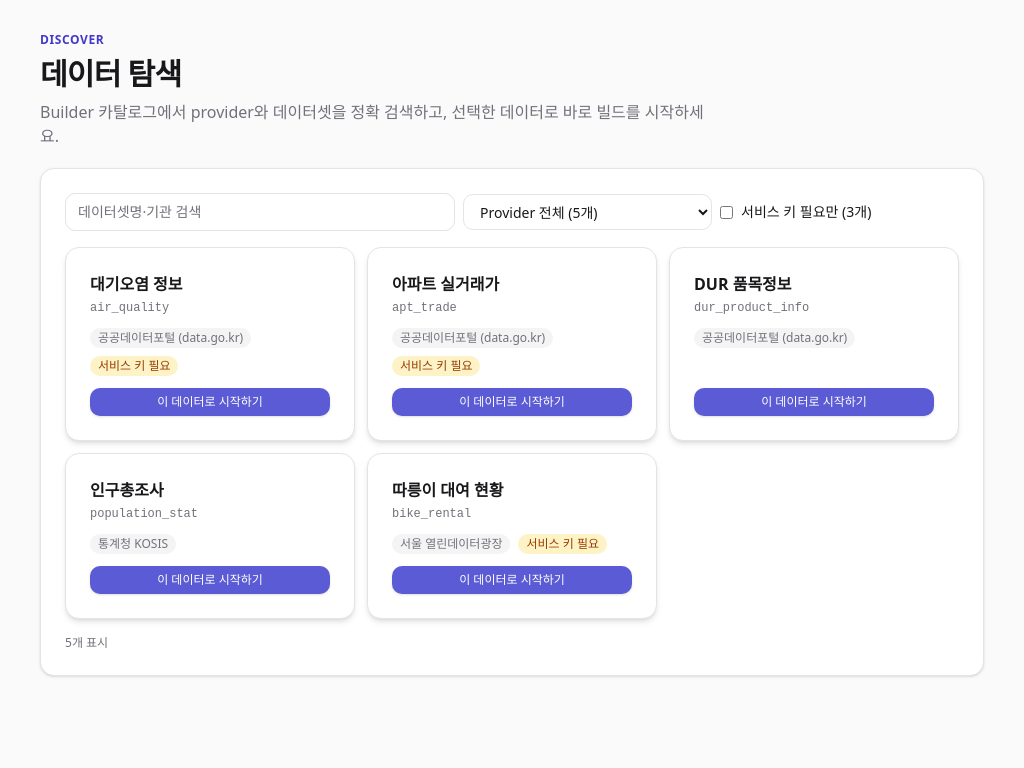
Scenario: DiscoverPage › filters to only datasets that require a service key when the checkbox is checked
Expected: the text "대기오염 정보" is shown, top-left (90, 273), bottom-right (182, 295)
Click the checkbox labelled "서비스 키 필요만 (3개)": (726, 212) top-left (720, 206), bottom-right (733, 218)
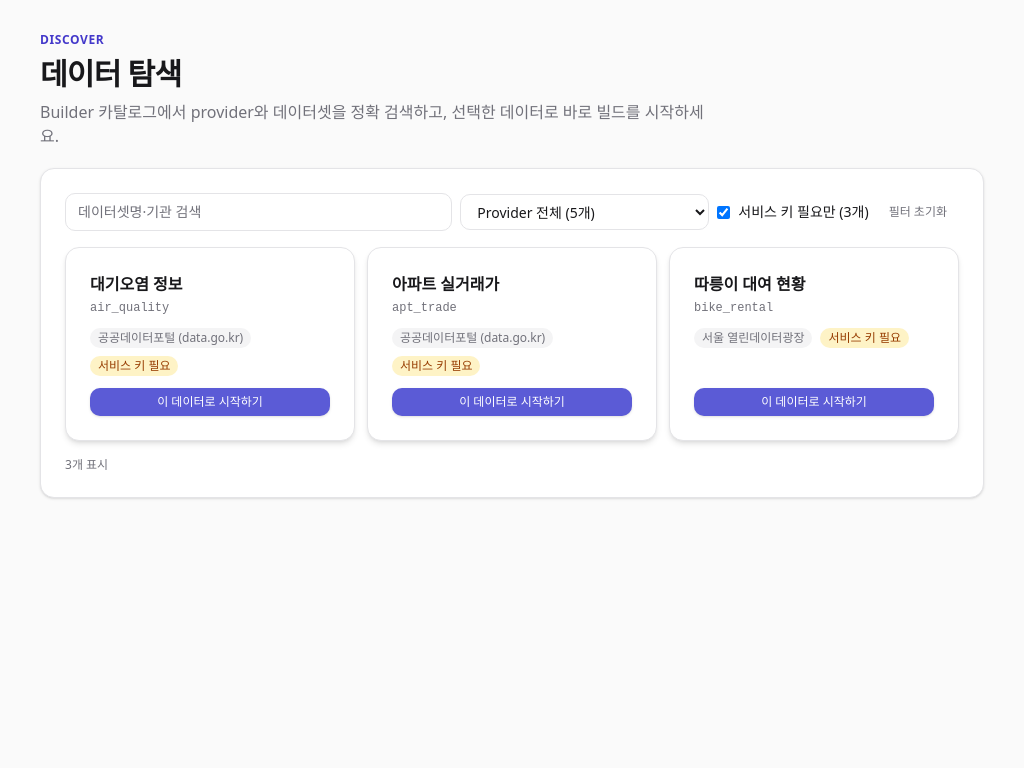
Expected: the text "대기오염 정보" is shown, top-left (90, 273), bottom-right (182, 295)
Result: the text "DUR 품목정보" is gone
